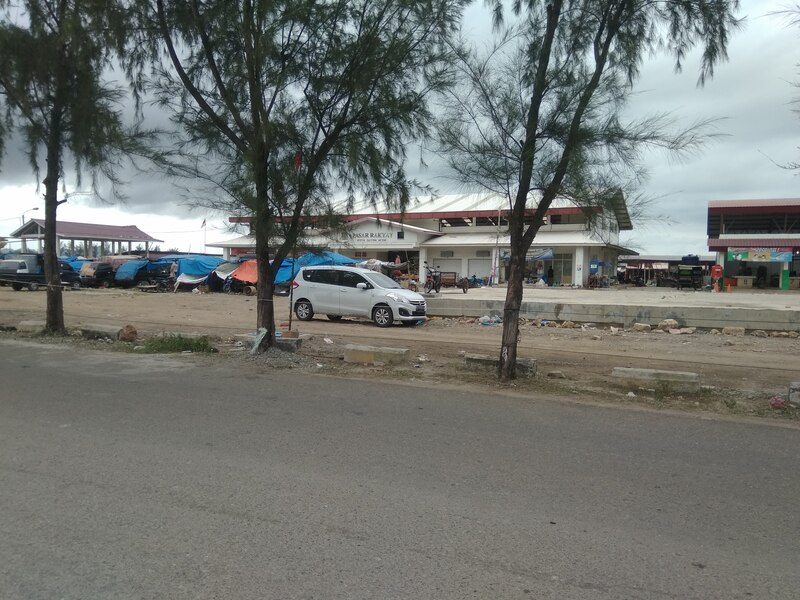becak barang: (422, 259, 475, 297)
